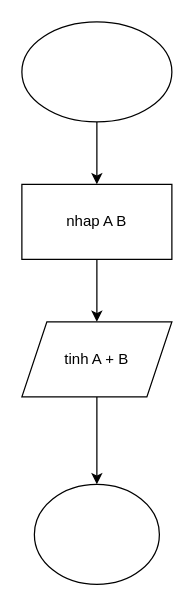
Image size: 194x606. Some labels were removed from this diagram. The centre of each missing label's shape, as x and y in pixels:
"end" belongs at point 96,533.
"start" belongs at point 96,71.
